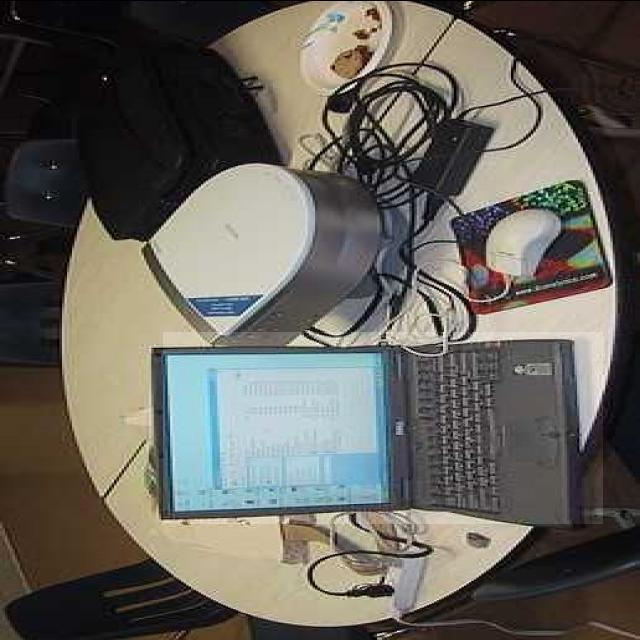-keyboard-: (164, 332, 604, 524)
